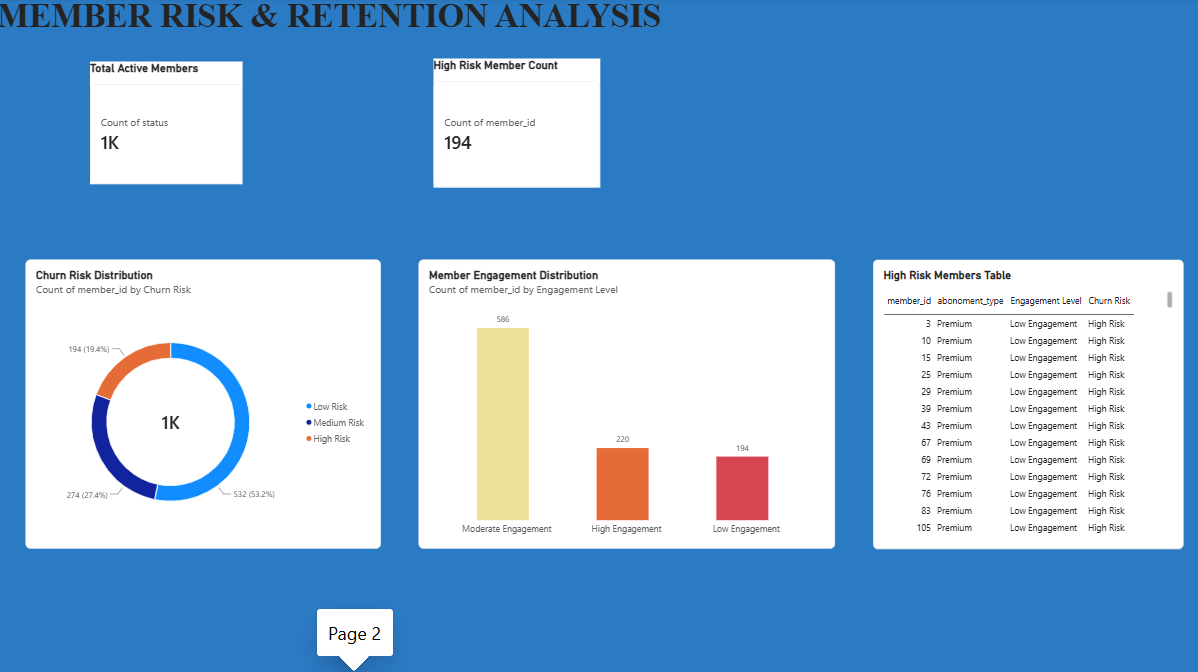

Layout of this report page (visuals, bound fields, positions):
{"tool":"powerbi","page":{"name":"Page 2","canvas":[1920,1080],"ordinal":1},"visuals":[{"type":"tableEx","title":"High Risk Members Table","fields":{"Values":["health_fitness_club members.member_id","health_fitness_club gym_membership.abonoment_type","health_fitness_club gym_membership.Engagement Level","health_fitness_club gym_membership.Churn Risk"]},"box":[1393.4,417.5,493.9,460.5],"z":0},{"type":"cardVisual","title":"Total Active Members","fields":{"Data":["CountNonNull(health_fitness_club members.status)"]},"box":[147.5,102.5,242.5,195],"z":1000},{"type":"donutChart","title":"Churn Risk Distribution","fields":{"Y":["CountNonNull(health_fitness_club members.member_id)"],"Category":["health_fitness_club gym_membership.Churn Risk"]},"box":[45,417.5,565,460],"z":2000},{"type":"clusteredColumnChart","title":"Member Engagement Distribution","fields":{"Category":["health_fitness_club gym_membership.Engagement Level"],"Y":["CountNonNull(health_fitness_club members.member_id)"]},"box":[670,417.5,662.5,460],"z":3000},{"type":"cardVisual","title":"High Risk Member Count","fields":{"Data":["CountNonNull(health_fitness_club member_plans.member_id)"]},"box":[695,97.5,265,205],"z":4000},{"type":"textbox","box":[0,0,1112.5,97.5],"z":5000}]}

Visuals, with their boxes in screenshot pixels (x1, y1, x2, y2), scaled from the page's 1920x1080 canvas onto the 1198x672 screenshot:
"High Risk Members Table" tableEx: {"left": 869, "top": 260, "right": 1178, "bottom": 546}
"Total Active Members" cardVisual: {"left": 92, "top": 64, "right": 243, "bottom": 185}
"Churn Risk Distribution" donutChart: {"left": 28, "top": 260, "right": 381, "bottom": 546}
"Member Engagement Distribution" clusteredColumnChart: {"left": 418, "top": 260, "right": 831, "bottom": 546}
"High Risk Member Count" cardVisual: {"left": 434, "top": 61, "right": 599, "bottom": 188}
textbox: {"left": 0, "top": 0, "right": 694, "bottom": 61}
